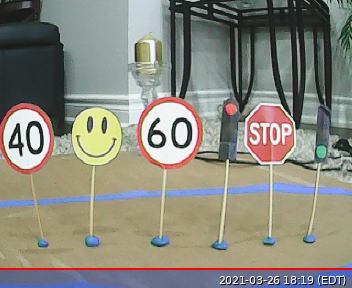Person: (70, 107, 123, 166)
Red Traffic Light: (215, 97, 240, 162)
Speed Limit 40: (1, 103, 53, 174)
Speed Limit 60: (136, 97, 203, 169)
Stop Sign: (244, 102, 298, 165)
